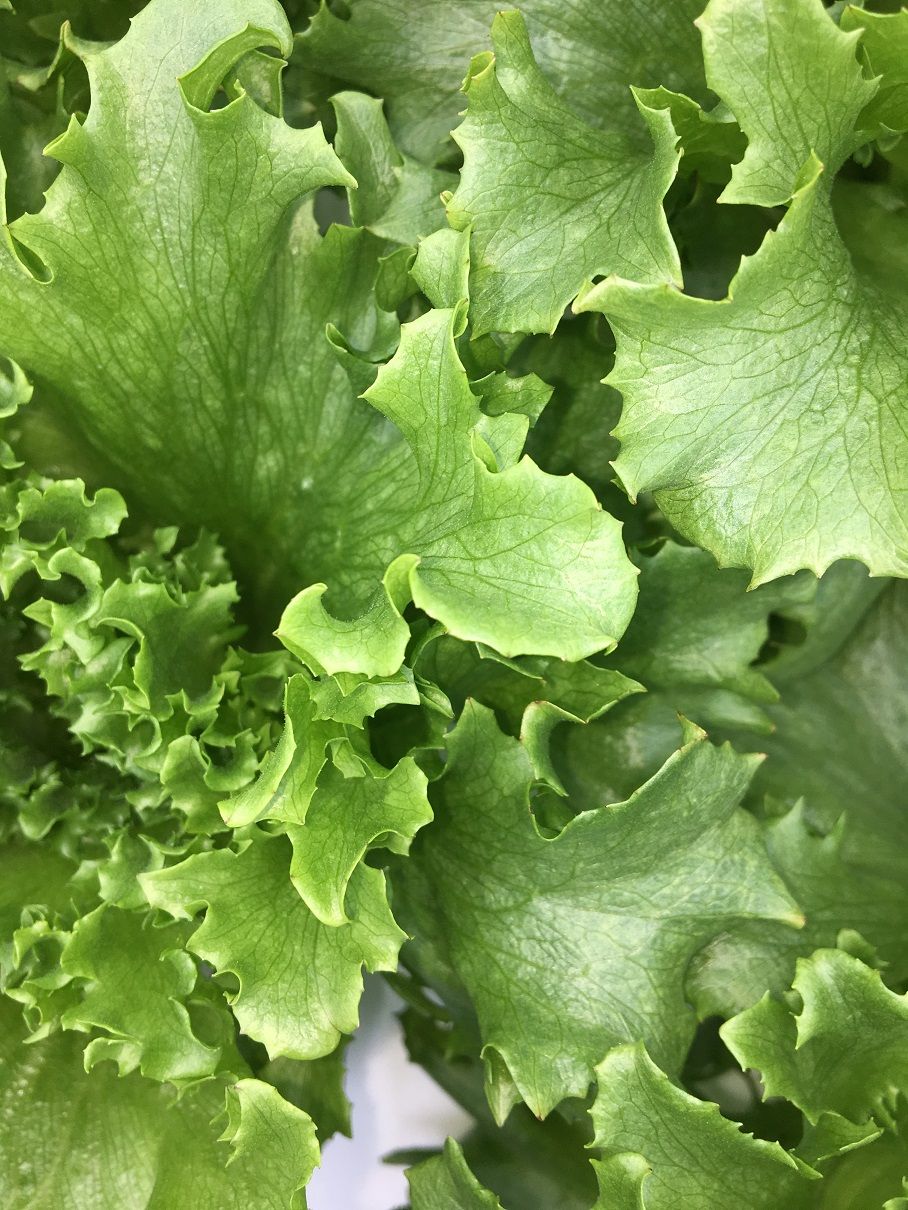tipburn: (776, 900, 823, 944), (218, 1070, 256, 1107), (423, 173, 458, 208), (507, 719, 541, 754), (662, 693, 695, 729), (749, 736, 782, 772), (449, 243, 482, 278), (450, 279, 483, 313), (522, 682, 554, 717), (527, 1098, 559, 1133), (433, 194, 464, 228), (445, 64, 480, 94), (14, 67, 46, 96), (478, 46, 510, 67), (600, 260, 629, 281), (488, 4, 512, 25), (815, 155, 833, 177), (263, 781, 284, 799), (168, 71, 187, 89), (838, 1, 860, 16), (349, 179, 365, 195)
